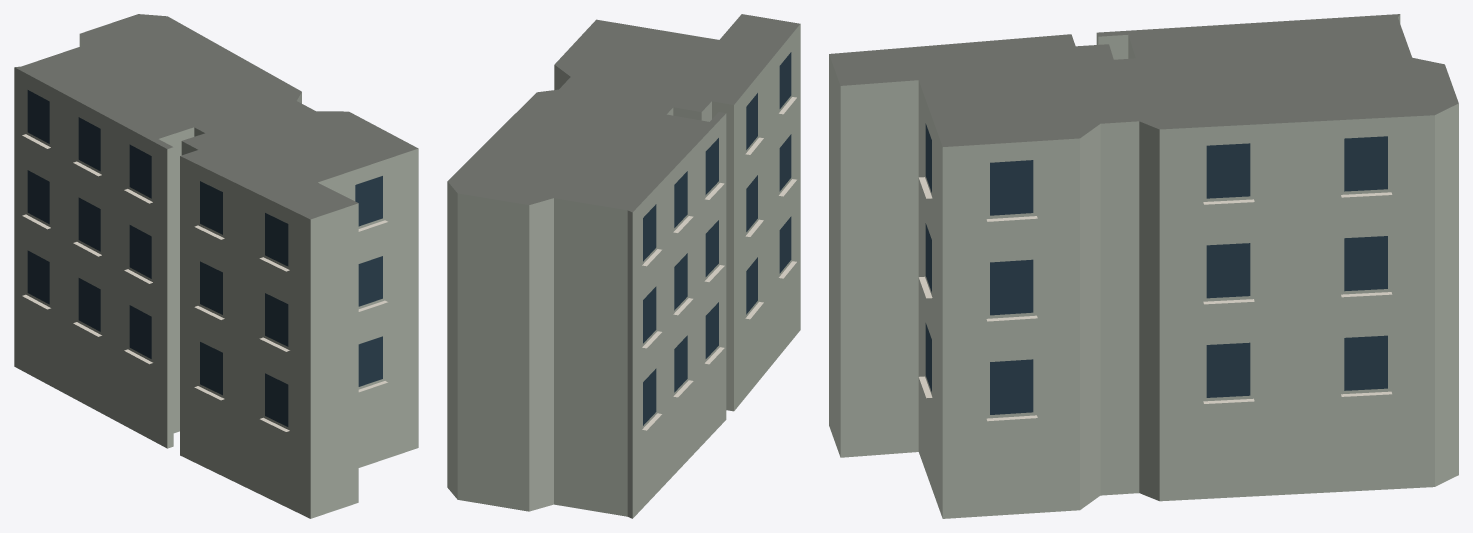
3 views of the same model, side by side, from view 1: azimuth 30°, elevation 25°; view 2: azimuth 150°, elevation 25°; view 3: azimuth 270°, elevation 25° (orthographic). The views are drawn at different scales.
Visible parts, largest first — view 1: Footprint 0, Inferred window bays, Window sills; view 2: Footprint 0, Inferred window bays, Window sills; view 3: Footprint 0, Inferred window bays, Window sills.
Part boxes in pixels (x1,y1,x2,y2): Footprint 0: (14,14,418,518); Inferred window bays: (27,90,382,426); Window sills: (22,134,387,431); Footprint 0: (447,14,800,518); Inferred window bays: (643,52,791,425); Window sills: (642,97,796,430); Footprint 0: (829,14,1458,518); Inferred window bays: (925,123,1387,414); Window sills: (919,177,1392,421).
Bounding box in the file's own units: 9.07 × 11.58 × 17.77.
